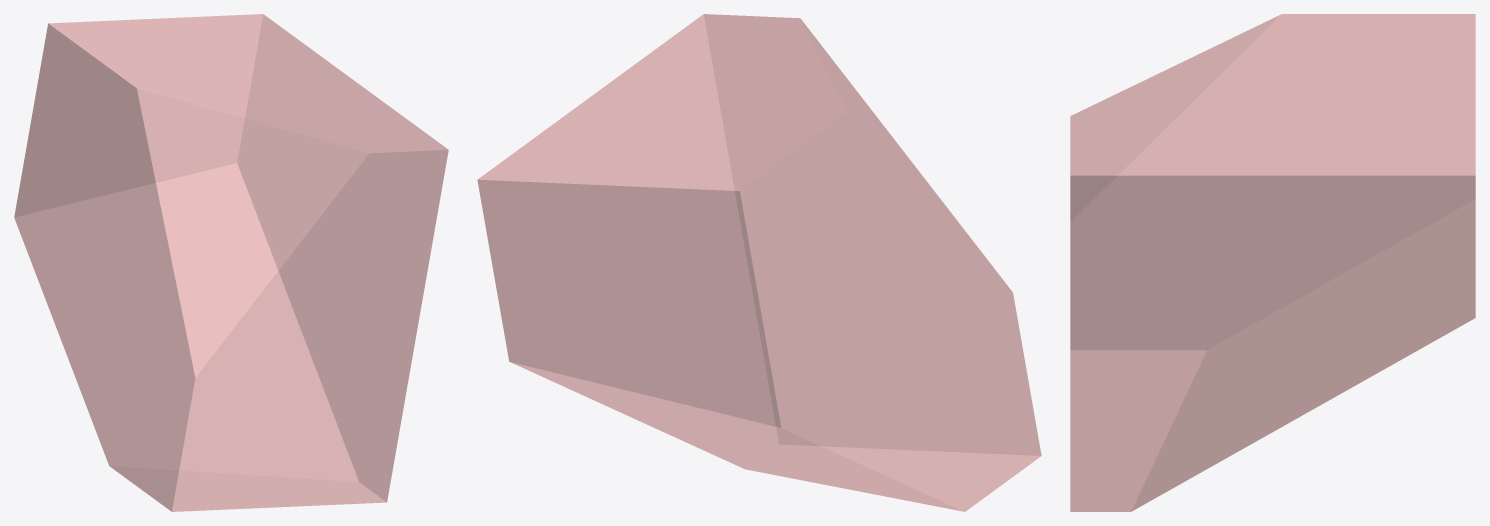
The picture shows the model from 3 angles, left to right: view 1: azimuth 30°, elevation 25°; view 2: azimuth 150°, elevation 25°; view 3: azimuth 270°, elevation 25°; orthographic projection. The views are drawn at different scales.
Visible parts, largest first — view 1: Bloc = Etape 3; view 2: Bloc = Etape 3; view 3: Bloc = Etape 3.
Boxes of the visible parts, <box> form: Bloc = Etape 3: <box>14,14,448,511</box>; Bloc = Etape 3: <box>477,14,1041,511</box>; Bloc = Etape 3: <box>1070,14,1475,511</box>.
Bounding box in the file's own units: 0.5056 × 0.6645 × 0.5869.
